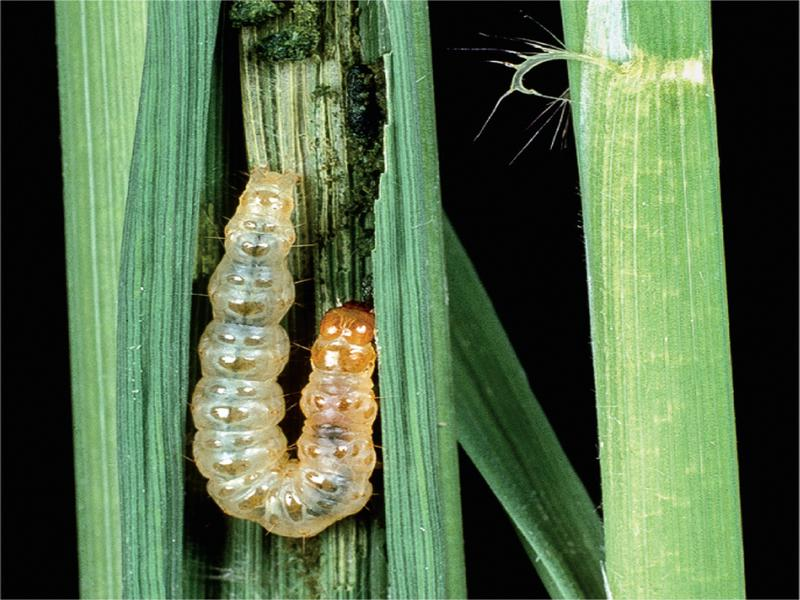Leaf_folder: (180, 166, 406, 538)
